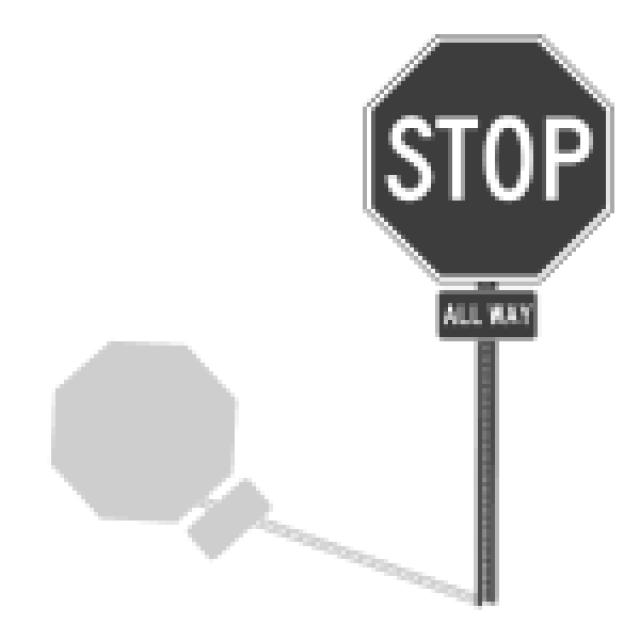stop sign: (362, 35, 612, 339)
